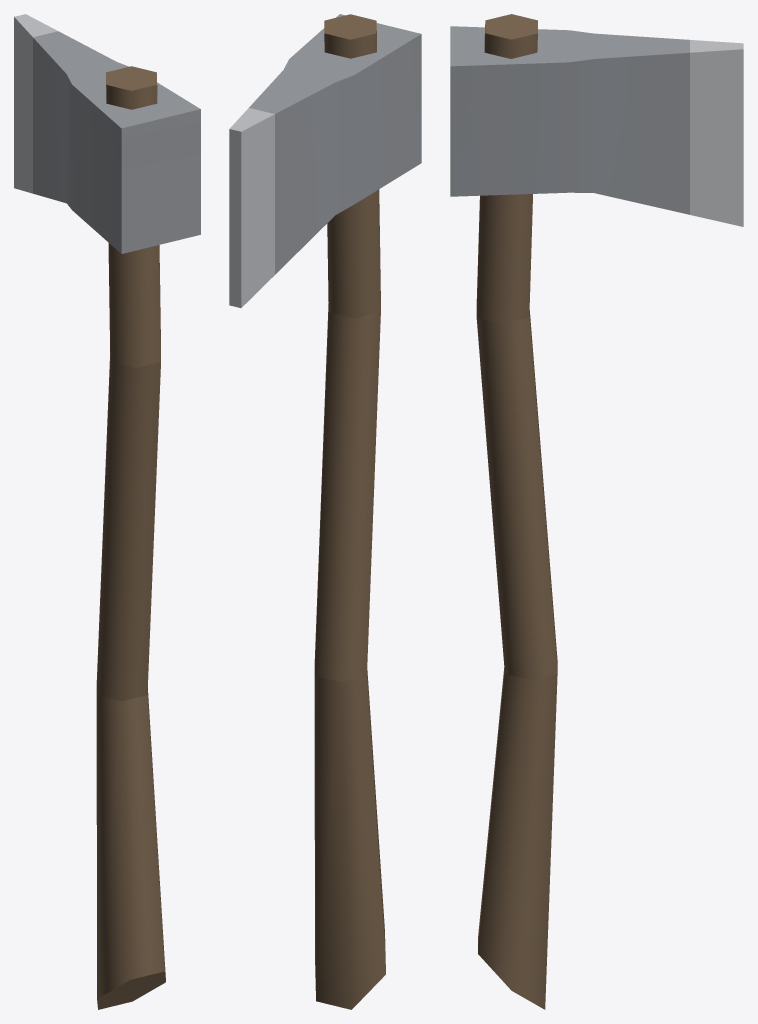
File: P_Axe_01_LD.fbx
The picture shows the model from 3 angles, left to right: view 1: azimuth 30°, elevation 25°; view 2: azimuth 150°, elevation 25°; view 3: azimuth 270°, elevation 25°; orthographic projection. The views are drawn at different scales.
Visible parts, largest first — view 1: P_Axe_01; view 2: P_Axe_01; view 3: P_Axe_01.
Boxes of the visible parts, x1,y1,x2,y2 form: P_Axe_01: (14, 14, 200, 1009); P_Axe_01: (229, 14, 421, 1009); P_Axe_01: (450, 14, 743, 1009).
Size of the model in its own units: 0.092 by 1.04 by 0.2839.
Materials: 1 (1 with a texture image).
